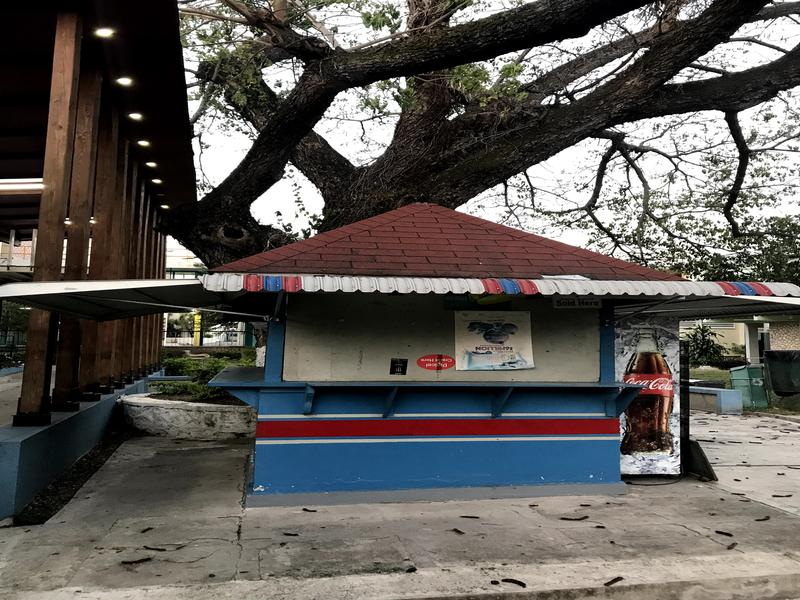18.0051667_-76.74944412_librarystall: (207, 184, 701, 527)
